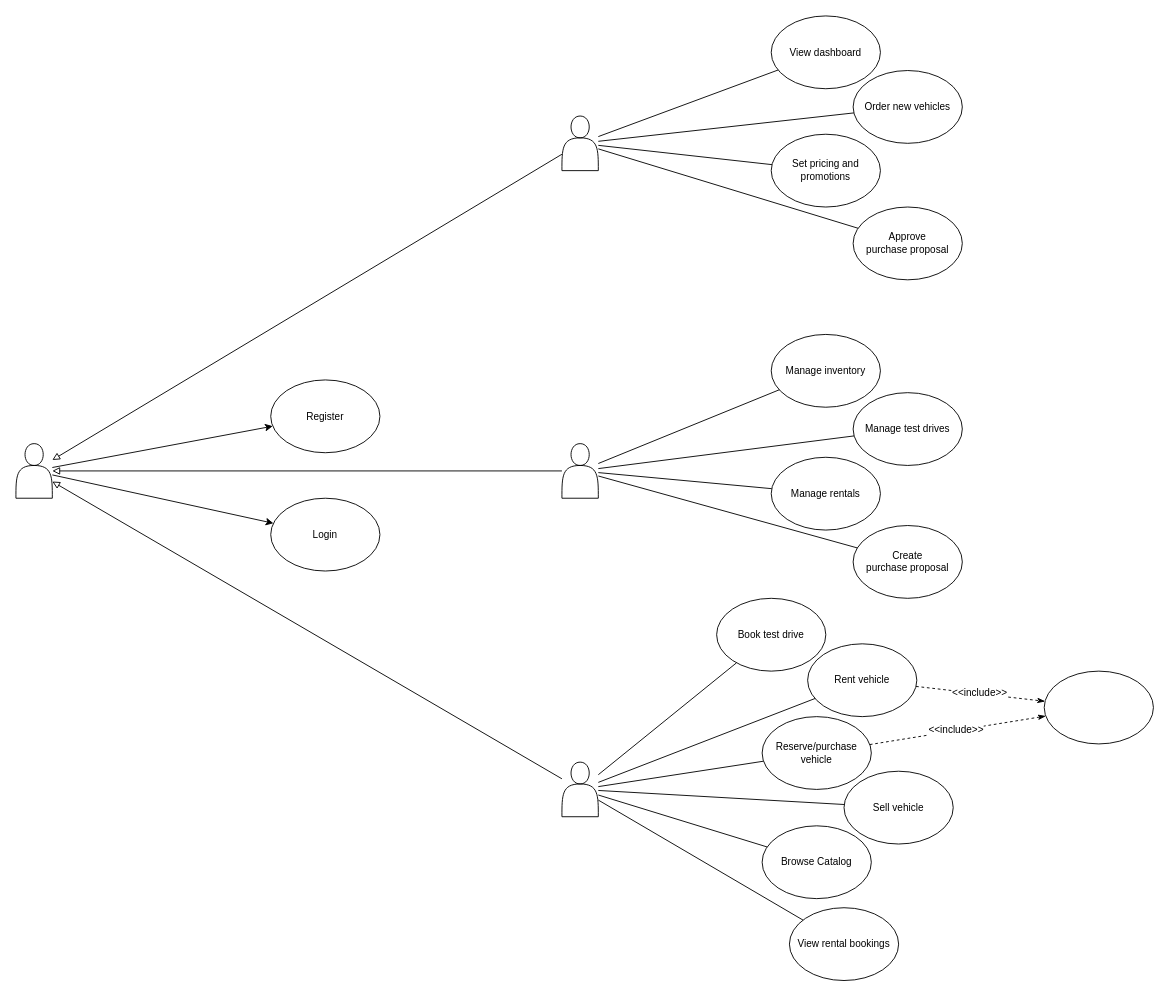
Image size: 1169x996. Some labels were removed from this diagram. The centre of each missing label's shape, as x and y in pixels:
Customer: pixel 579 789
Manager: pixel 579 143
Process payment: pixel 1098 707
Salesman: pixel 579 470
User: pixel 33 470
